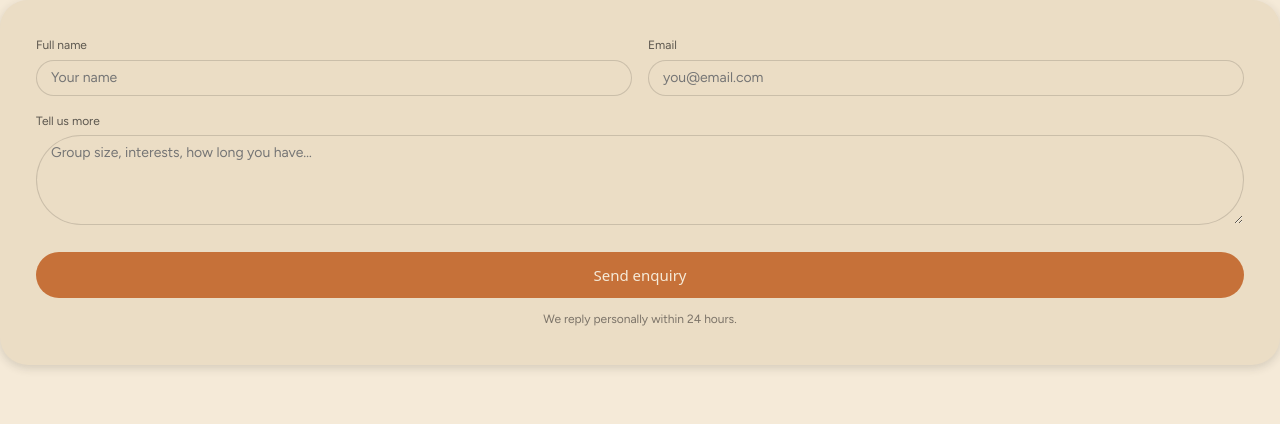
GIVEN the API refuses the enquiry › WHEN rate limited THEN shows an error and keeps the form
The image size is (1280, 424).
Type "Ada Lovelace" into the field labelled "Full name" at (334, 78), box [36, 60, 632, 96]
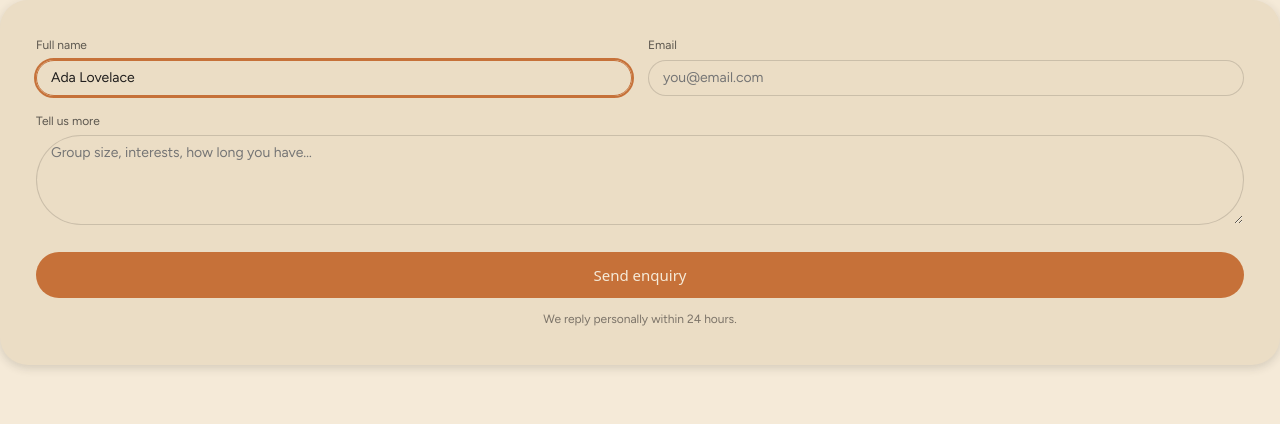
Type "ada@example.com" into the field labelled "Email" at (946, 78), box [648, 60, 1244, 96]
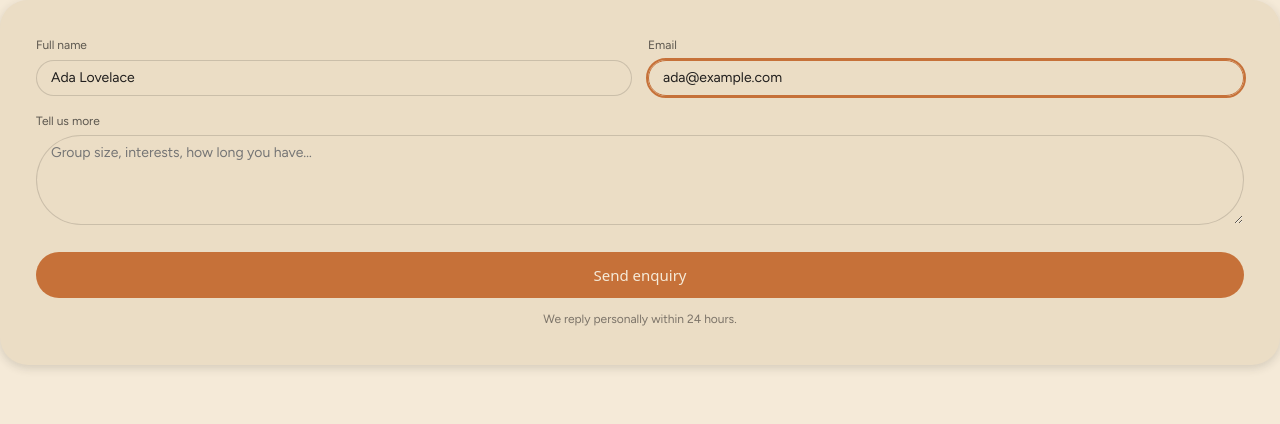
Click the button "Send enquiry" at (640, 275), box [36, 252, 1244, 298]
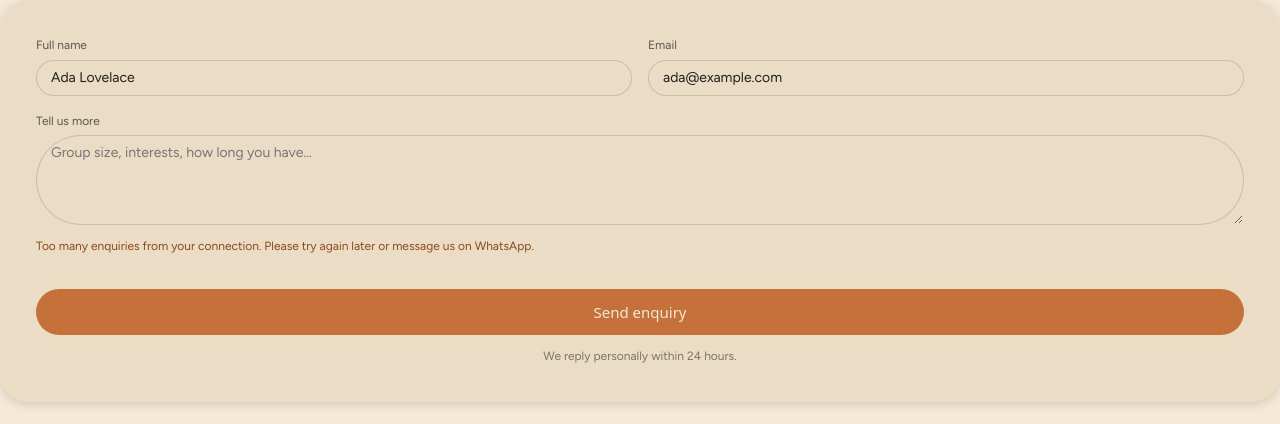
Check: the button "Send enquiry" is enabled, box [36, 289, 1244, 335]
Check: the message shows "Too many enquiries", box [36, 239, 534, 253]
